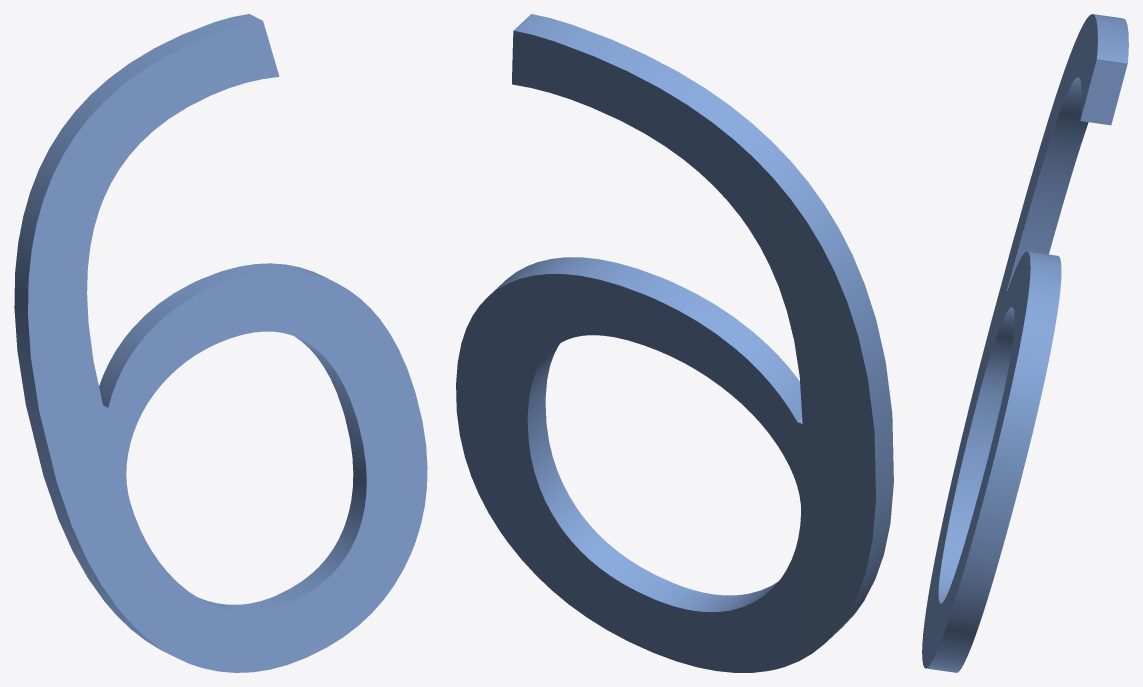
The model's file is New_Number_9.gltf.
3 views of the same model, side by side, from view 1: azimuth 30°, elevation 25°; view 2: azimuth 150°, elevation 25°; view 3: azimuth 270°, elevation 25° (orthographic). The views are drawn at different scales.
Parts seen in each view (by area): view 1: Part 153; view 2: Part 153; view 3: Part 153.
Part boxes in pixels (x1,y1,x2,y2): Part 153: (14,14,427,672); Part 153: (456,14,893,672); Part 153: (922,14,1128,672).
Bounding box in the file's own units: 0.00378 × 0.00566 × 0.00169.
